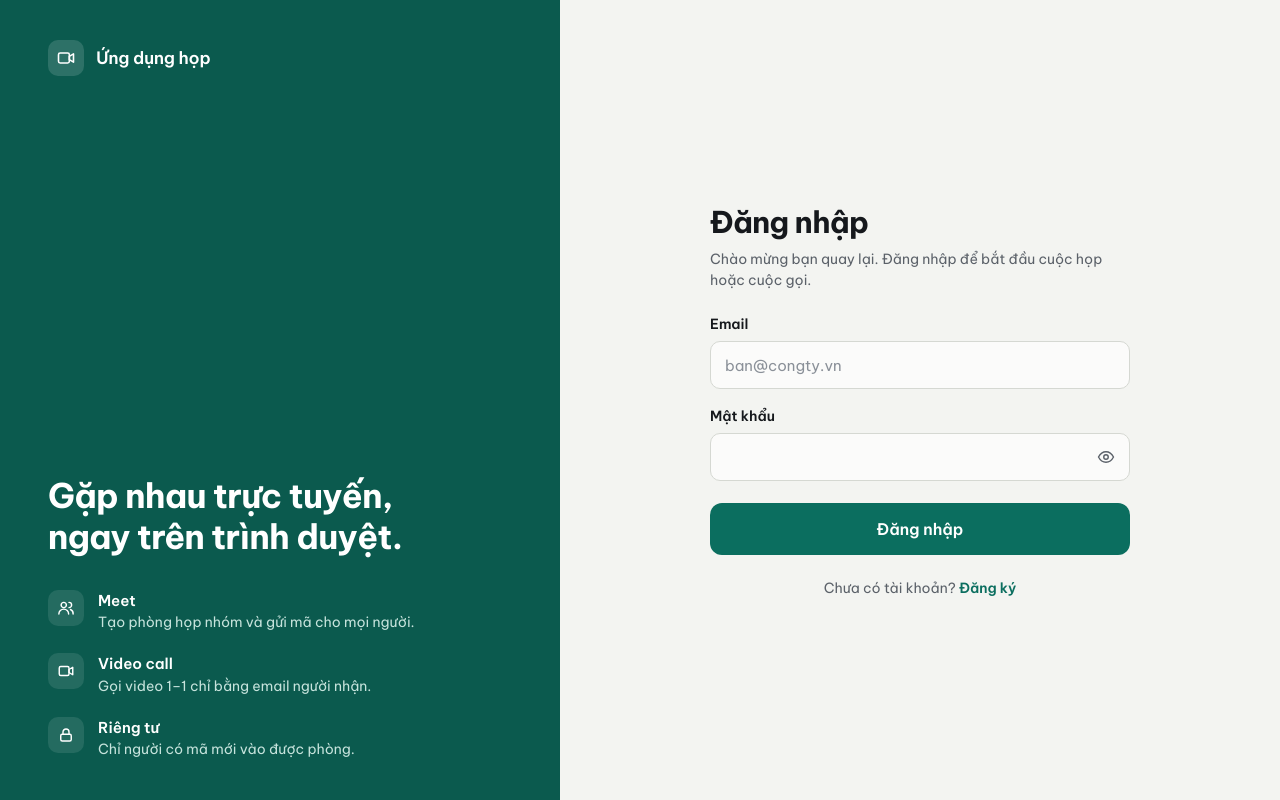
Test: đăng nhập › submit form trống thì báo lỗi từng ô, không gọi API
Click the button "Đăng nhập" at (920, 529), box [710,503,1130,555]
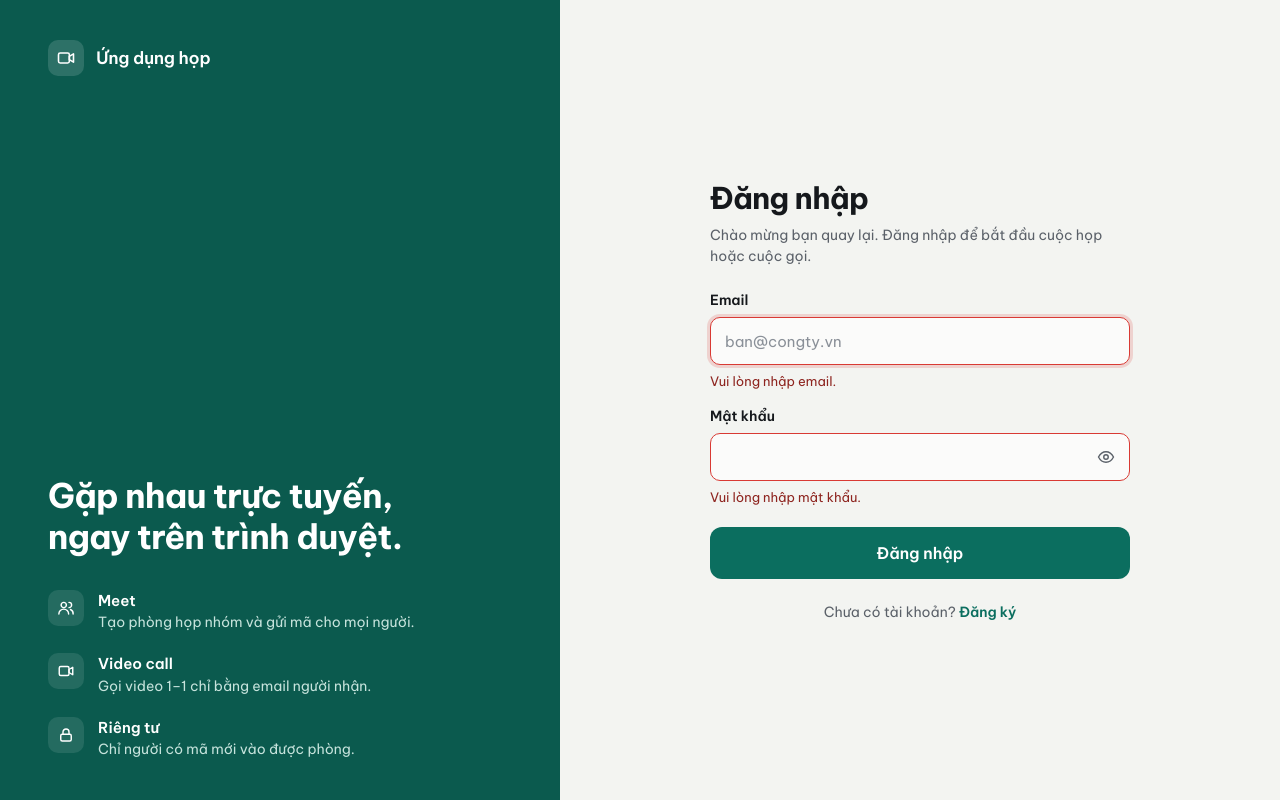
Result: the text "Vui lòng nhập email." is shown at [710,373,836,389]
Result: the text "Vui lòng nhập mật khẩu." is shown at [710,489,861,505]
